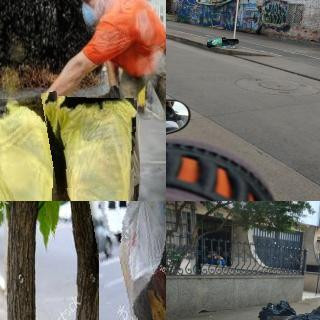Garbage: (89, 201, 166, 320), (52, 97, 135, 201), (0, 95, 76, 201), (257, 299, 297, 320), (207, 36, 226, 48), (222, 39, 239, 48)
